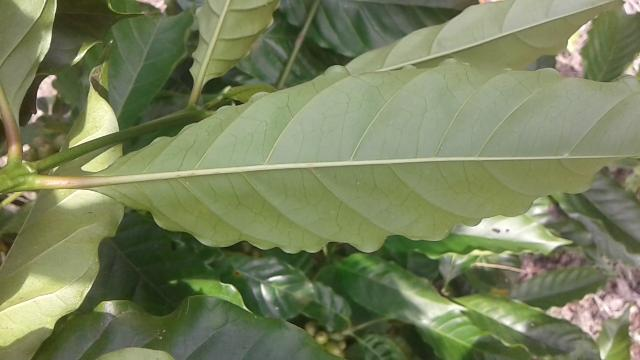healthy: (81, 58, 640, 258)
